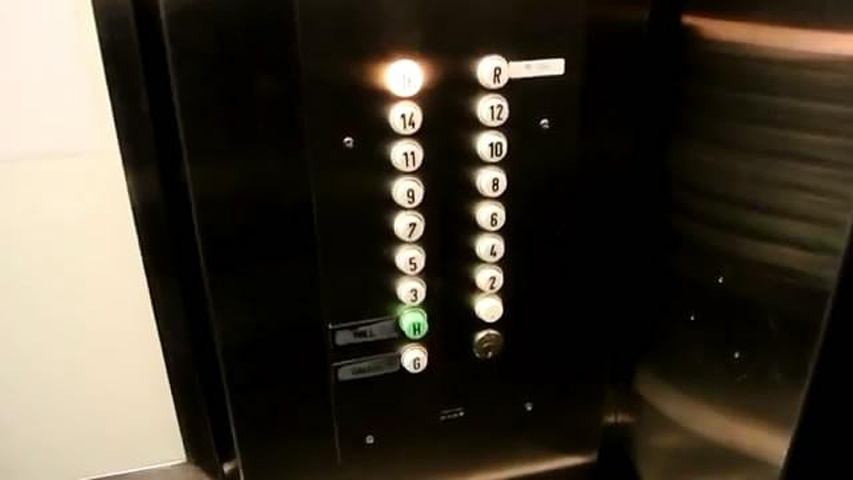10: (471, 128, 508, 164)
11: (389, 138, 428, 172)
12: (473, 93, 510, 128)
14: (385, 99, 423, 135)
2: (468, 266, 505, 296)
3: (395, 275, 432, 306)
4: (471, 230, 508, 265)
5: (393, 242, 429, 276)
6: (473, 198, 508, 232)
7: (391, 205, 426, 244)
8: (471, 163, 511, 199)
9: (387, 175, 428, 209)
G: (398, 343, 434, 376)
H: (396, 307, 433, 343)
R: (472, 52, 511, 91)
blur: (381, 54, 428, 99)
empty: (470, 292, 506, 323)
keyhole: (470, 327, 505, 365)
